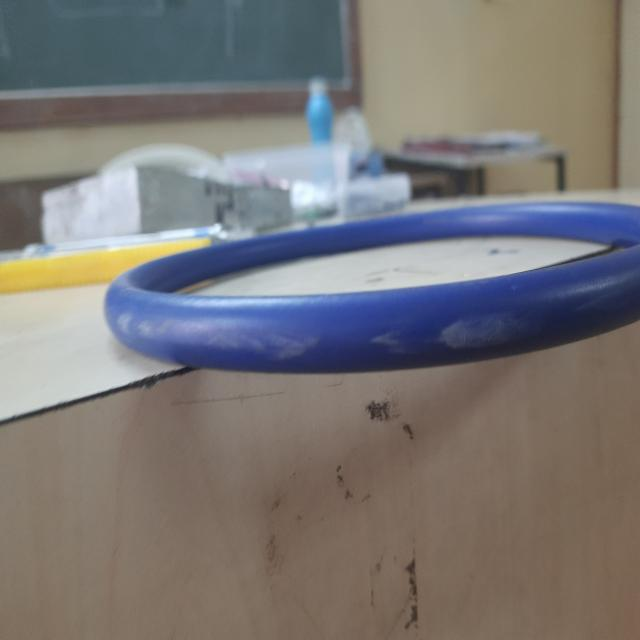daire: (108, 203, 640, 372)
